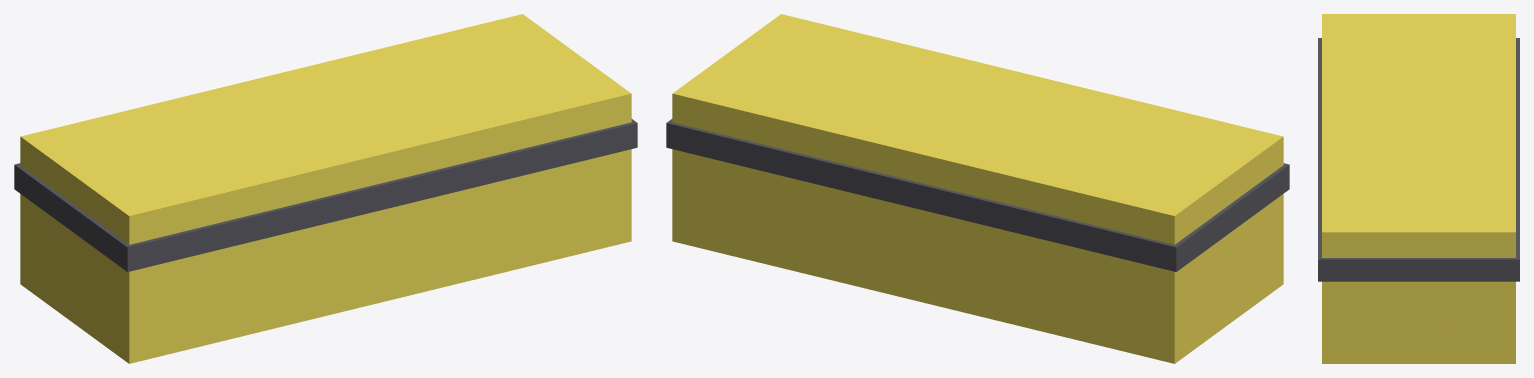
Rendered from barrier.glb.
The picture shows the model from 3 angles, left to right: view 1: azimuth 30°, elevation 25°; view 2: azimuth 150°, elevation 25°; view 3: azimuth 270°, elevation 25°; orthographic projection. The views are drawn at different scales.
Visible parts, largest first — view 1: base, stripe_a; view 2: base, stripe_a; view 3: base, stripe_a.
Part boxes in pixels (left/top/right/bottom): base: left=20, top=14, right=631, bottom=363; stripe_a: left=14, top=119, right=637, bottom=271; base: left=672, top=14, right=1283, bottom=363; stripe_a: left=666, top=119, right=1289, bottom=271; base: left=1322, top=14, right=1515, bottom=363; stripe_a: left=1318, top=38, right=1519, bottom=281.
Bounding box in the file's own units: 1.62 × 0.45 × 0.625.
